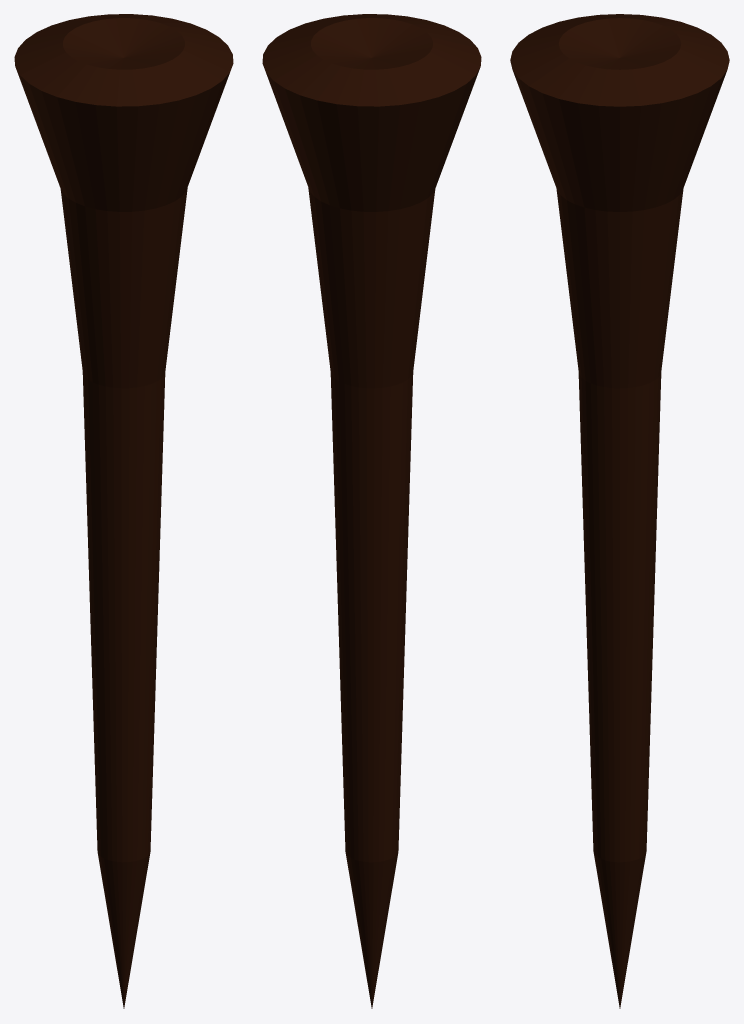
The model's file is fackel.fbx.
3 renders of one model, left to right at view 1: azimuth 30°, elevation 25°; view 2: azimuth 150°, elevation 25°; view 3: azimuth 270°, elevation 25°, orthographic.
Parts seen in each view (by area): view 1: Fackel; view 2: Fackel; view 3: Fackel.
Part boxes in pixels (bbox=[...]): Fackel: bbox=[14, 14, 233, 1008]; Fackel: bbox=[262, 14, 481, 1008]; Fackel: bbox=[510, 14, 729, 1008].
Bounding box in the file's own units: 0.0656 × 0.3187 × 0.0656.
